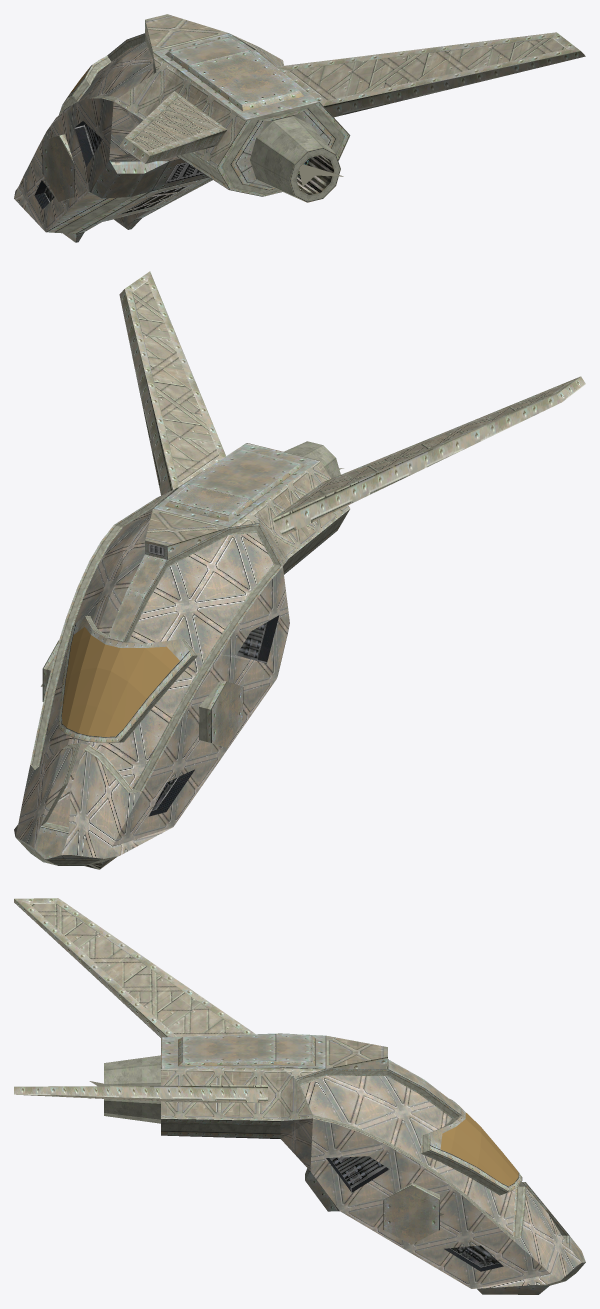
Rendered from StarLight.obj.
3 views of the same model, one above another, from view 1: azimuth 30°, elevation 25°; view 2: azimuth 150°, elevation 25°; view 3: azimuth 270°, elevation 25° (orthographic). The views are drawn at different scales.
Visible parts, largest first — view 1: cv_starflier, star_wing, engine, port_wing, baydoor01, baydoor02, Hp|Fixed|HpEngine01; view 2: cv_starflier, star_wing, port_wing, glass, baydoor01, baydoor02, engine; view 3: cv_starflier, port_wing, star_wing, engine, glass, baydoor02, baydoor01.
Boxes of the visible parts, <box> form: cv_starflier: <box>14,14,350,242</box>; star_wing: <box>277,32,585,117</box>; engine: <box>250,116,340,202</box>; port_wing: <box>119,91,226,163</box>; baydoor01: <box>165,44,273,111</box>; baydoor02: <box>199,37,303,103</box>; Hp|Fixed|HpEngine01: <box>299,164,343,186</box>; cv_starflier: <box>14,443,350,869</box>; star_wing: <box>119,271,225,495</box>; port_wing: <box>272,376,585,536</box>; glass: <box>62,627,179,736</box>; baydoor01: <box>197,456,303,521</box>; baydoor02: <box>165,449,270,513</box>; engine: <box>284,441,340,478</box>; cv_starflier: <box>161,1033,585,1294</box>; port_wing: <box>14,898,255,1037</box>; star_wing: <box>14,1085,267,1102</box>; engine: <box>104,1055,160,1123</box>; glass: <box>440,1106,518,1186</box>; baydoor02: <box>178,1047,315,1066</box>; baydoor01: <box>178,1034,315,1052</box>.
Size of the model in its own units: 10.59 by 7.43 by 13.27.
13 materials, 12 textured.
